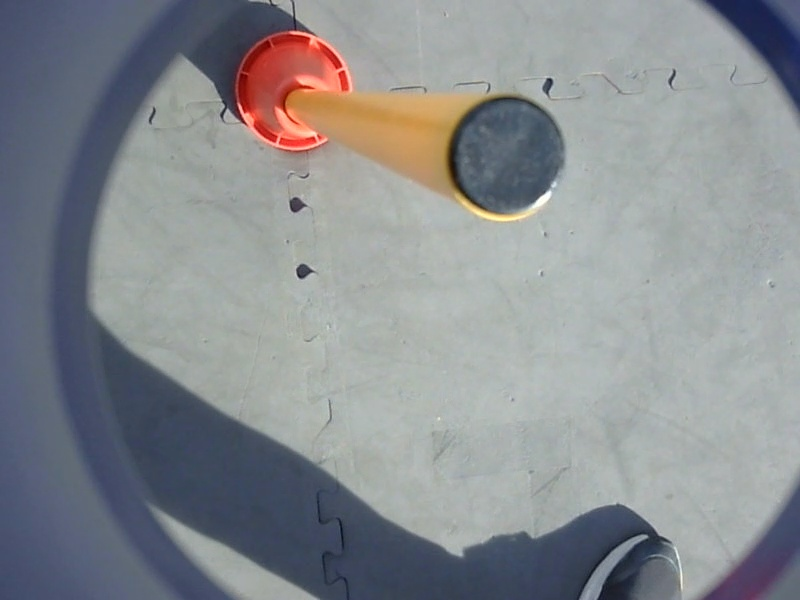tip: (436, 86, 576, 231)
